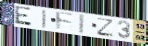3: (117, 20, 131, 40)
E: (13, 5, 33, 28)
F: (55, 11, 75, 31)
I: (78, 14, 85, 35), (42, 9, 47, 30)
Z: (96, 17, 115, 38)
